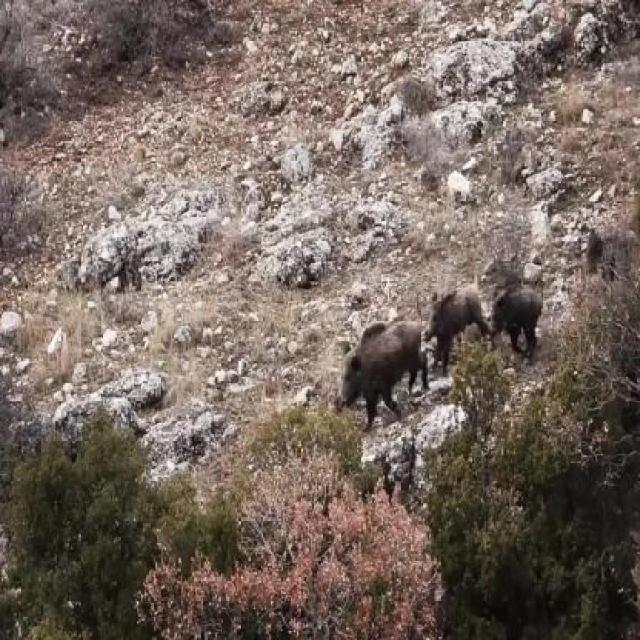Boar: (335, 313, 437, 432), (426, 272, 494, 372), (485, 277, 546, 363)
